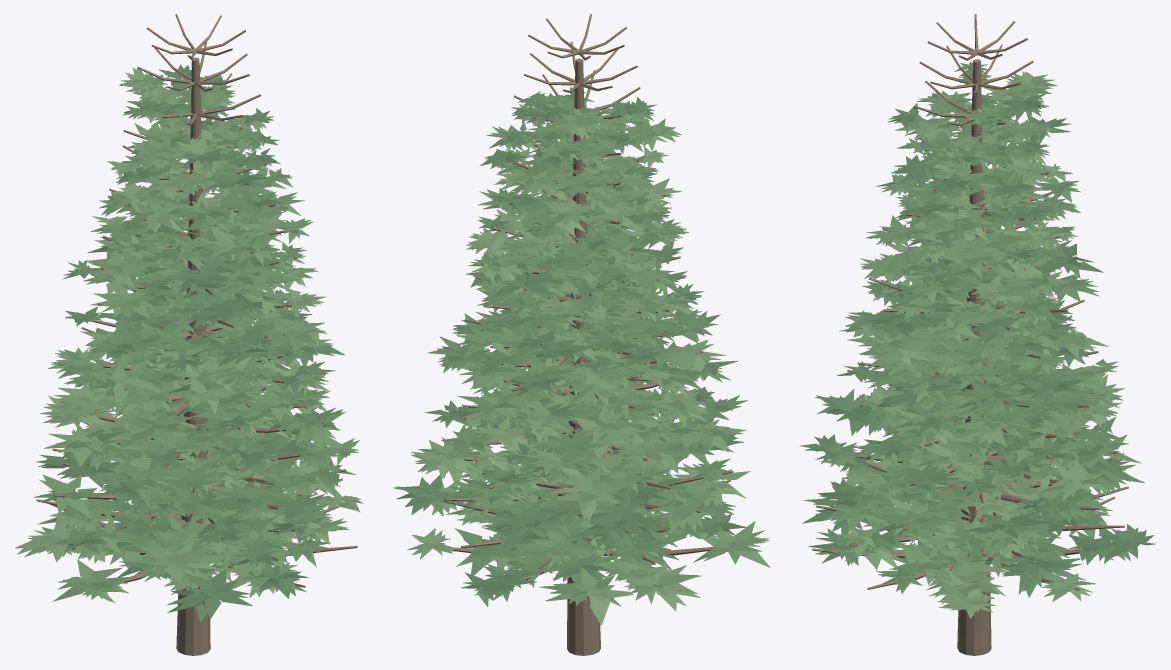
File: StreetConifer_Pine_Refined.fbx
The picture shows the model from 3 angles, left to right: view 1: azimuth 30°, elevation 25°; view 2: azimuth 150°, elevation 25°; view 3: azimuth 270°, elevation 25°; orthographic projection.
Parts seen in each view (by area): view 1: StreetConifer_Pine_Refined; view 2: StreetConifer_Pine_Refined; view 3: StreetConifer_Pine_Refined.
Part boxes in pixels (box(x1,y1,x2,y2)): StreetConifer_Pine_Refined: box(15, 14, 363, 655); StreetConifer_Pine_Refined: box(393, 14, 770, 655); StreetConifer_Pine_Refined: box(800, 14, 1155, 655).
Bounding box in the file's own units: 447 × 793 × 418.
